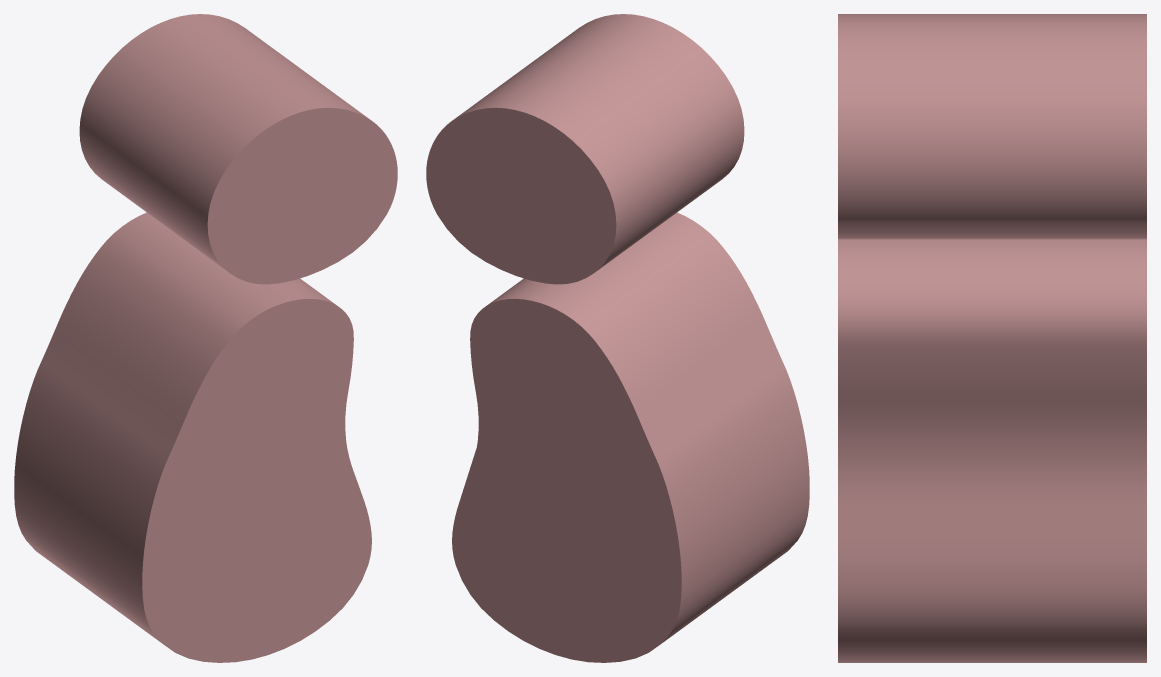
File: small-i.fbx
3 views of the same model, side by side, from view 1: azimuth 30°, elevation 25°; view 2: azimuth 150°, elevation 25°; view 3: azimuth 270°, elevation 25° (orthographic). The views are drawn at different scales.
Parts seen in each view (by area): view 1: small_i; view 2: small_i; view 3: small_i.
Boxes of the visible parts, <box> form: small_i: <box>14,14,397,662</box>; small_i: <box>426,14,809,662</box>; small_i: <box>838,14,1146,662</box>.
Bounding box in the file's own units: 2.88 × 5.77 × 2.5.
